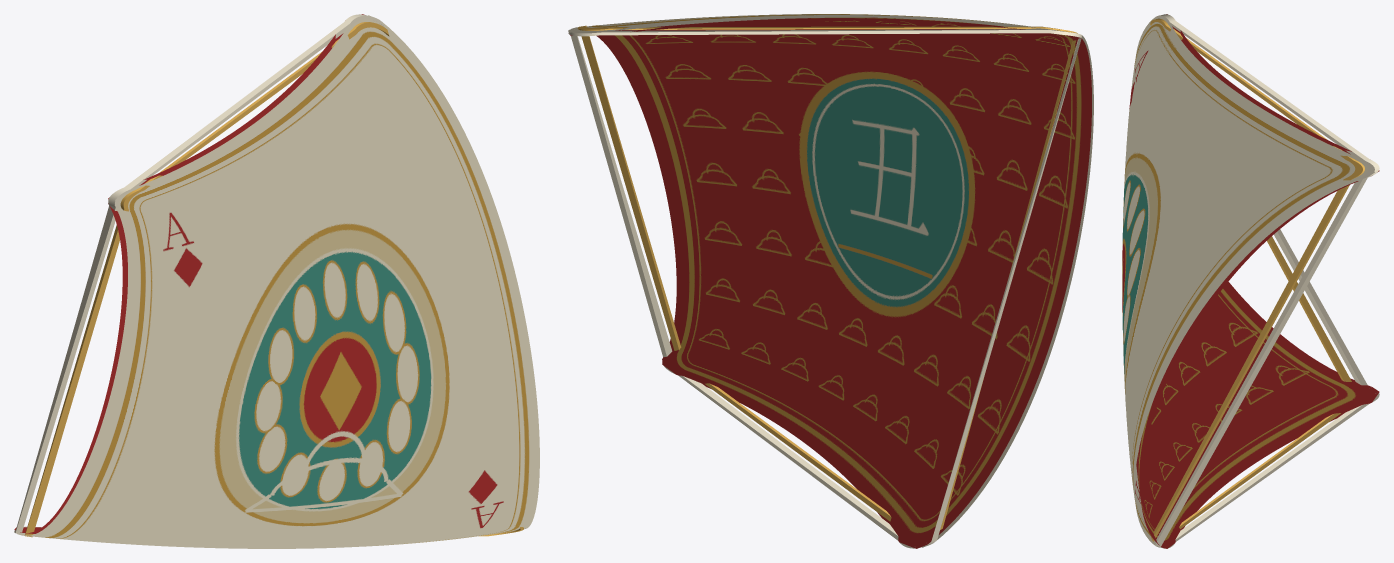
Rendered from poker-card-master.glb.
3 views of the same model, side by side, from view 1: azimuth 30°, elevation 25°; view 2: azimuth 150°, elevation 25°; view 3: azimuth 270°, elevation 25° (orthographic). The views are drawn at different scales.
Visible parts, largest first — view 1: PokerCardMaster; view 2: PokerCardMaster; view 3: PokerCardMaster.
Boxes of the visible parts, box(x1,y1,x2,y2) form: PokerCardMaster: box(14, 14, 539, 548); PokerCardMaster: box(568, 14, 1093, 548); PokerCardMaster: box(1122, 14, 1379, 548).
Bounding box in the file's own units: 2 × 1.98 × 1.25.
Materials: 4 (2 with a texture image).
